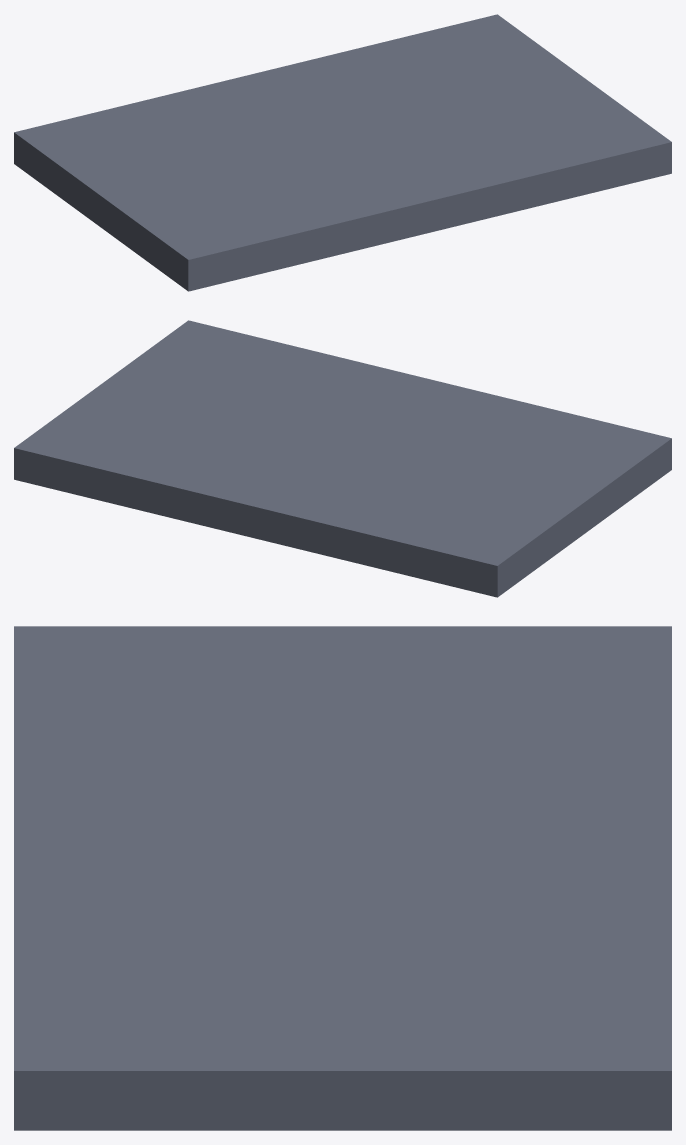
Rendered from archive_vault_ceiling.glb.
3 views of the same model, one above another, from view 1: azimuth 30°, elevation 25°; view 2: azimuth 150°, elevation 25°; view 3: azimuth 270°, elevation 25° (orthographic). The views are drawn at different scales.
Visible parts, largest first — view 1: vault; view 2: vault; view 3: vault.
Boxes of the visible parts, box(x1,y1,x2,y2) form: vault: box(14, 14, 671, 291); vault: box(14, 320, 671, 597); vault: box(14, 626, 671, 1130).
Bounding box in the file's own units: 16 × 2.6 × 10.
